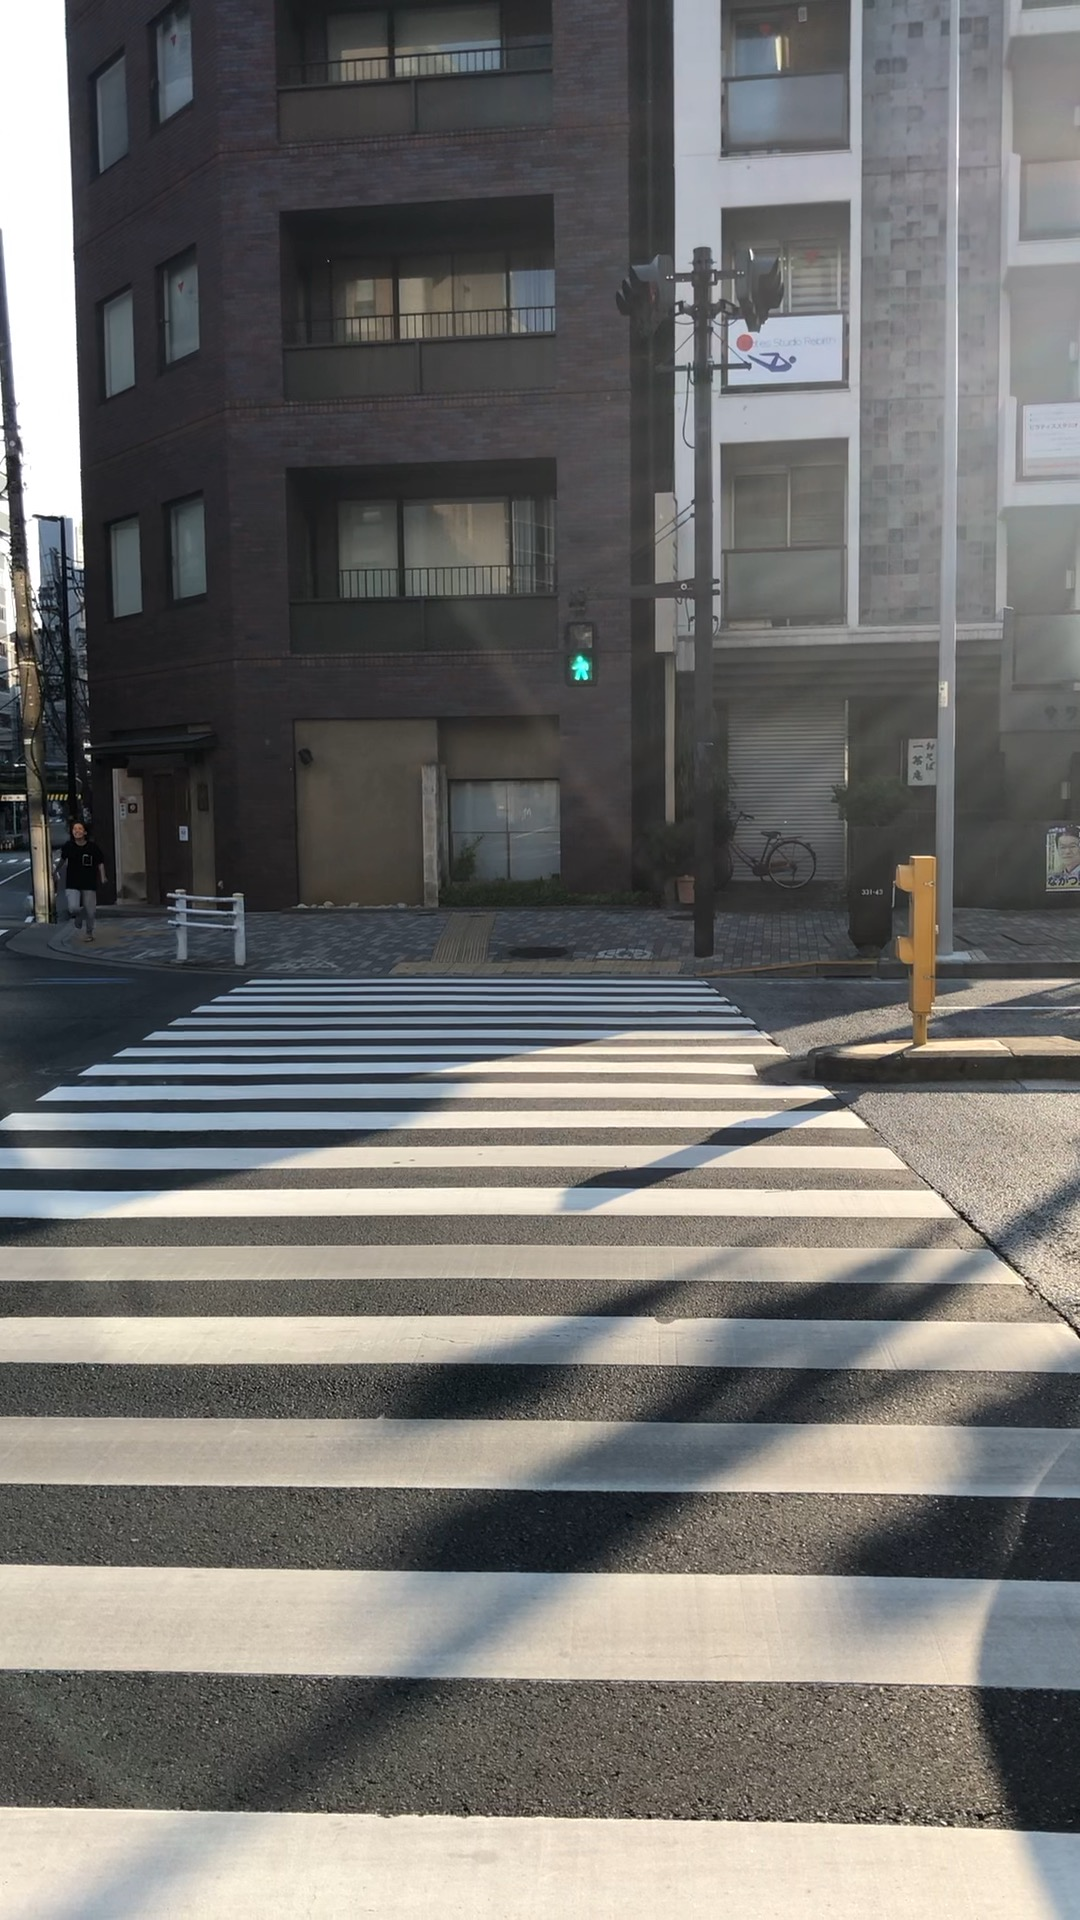green: (563, 621, 597, 687)
